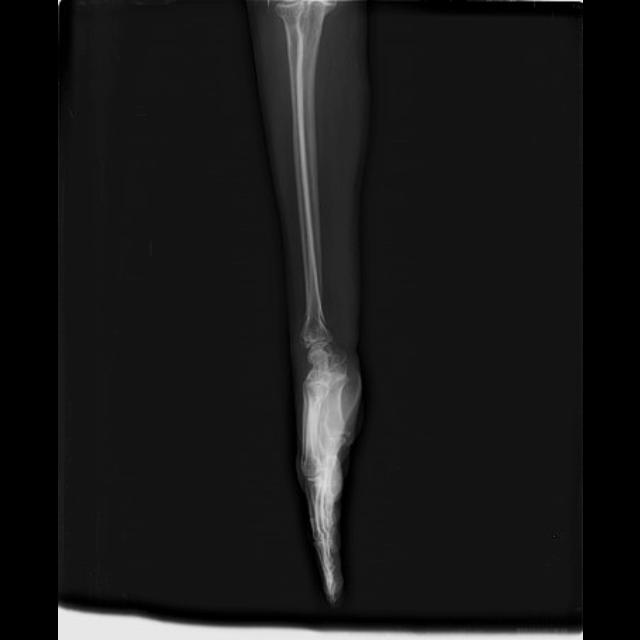Fracture: (293, 299, 330, 348)
